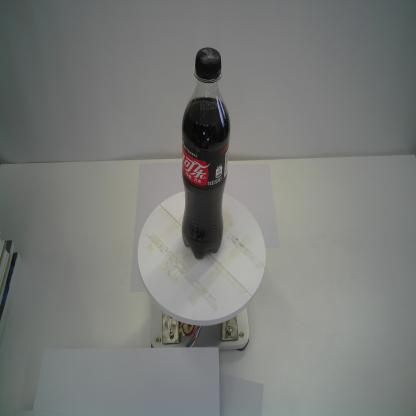Drink: (180, 45, 232, 262)
